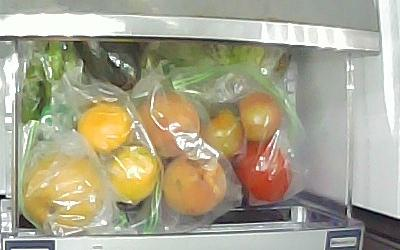peach_vinyl: (134, 89, 200, 158), (161, 148, 227, 215)
pear_vinyl: (20, 150, 104, 231)
tangerine_vinyl: (106, 143, 160, 202), (76, 100, 132, 151)
tomato_vinyl: (227, 138, 293, 202), (235, 90, 281, 141), (198, 107, 244, 158)
